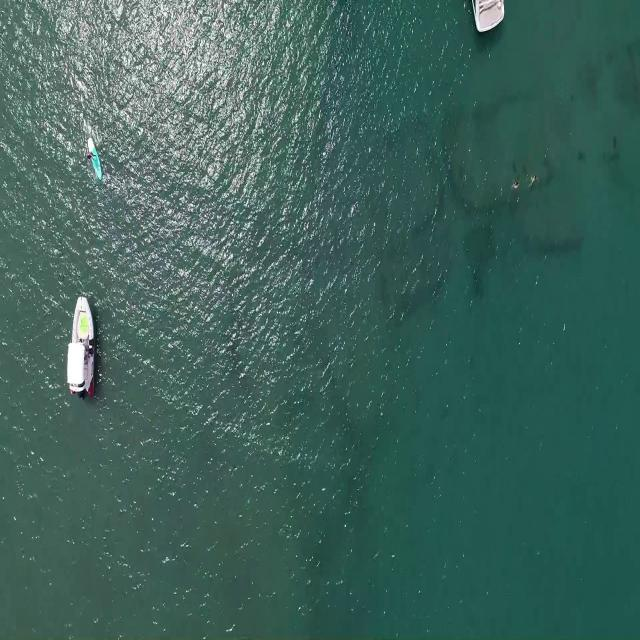boat: (65, 284, 97, 405)
person: (528, 174, 542, 188), (86, 149, 98, 164), (512, 180, 520, 190)
surfboard: (86, 134, 102, 184)
